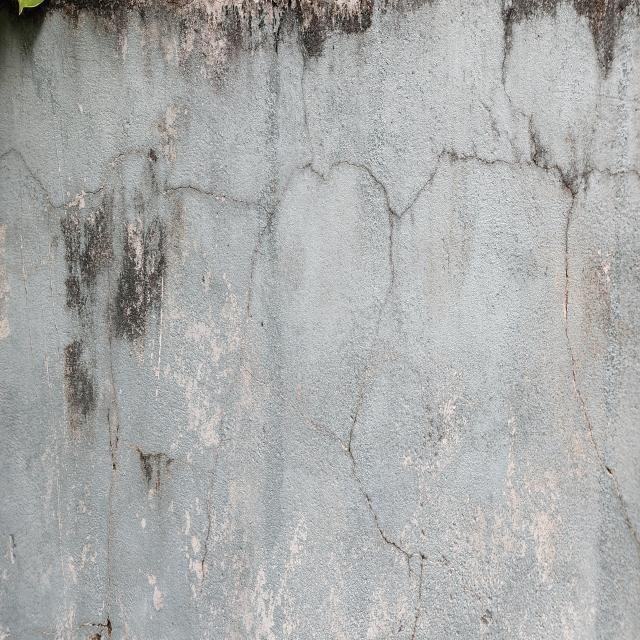SurfaceCrack: (297, 4, 489, 640)
